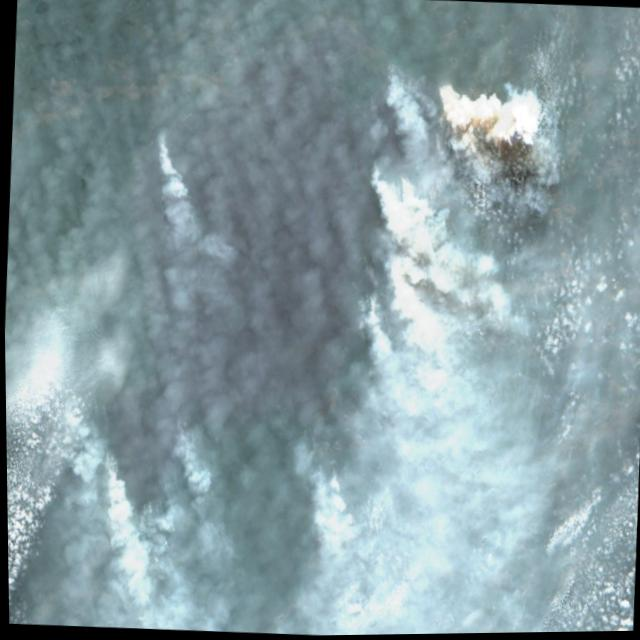fire: (48, 361, 207, 533), (356, 62, 458, 200), (304, 441, 351, 512), (376, 229, 425, 295)
